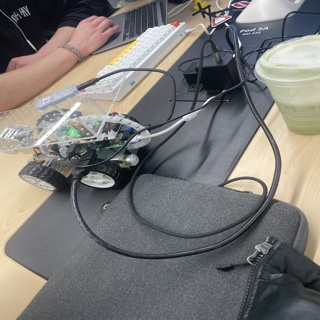vehicle: (0, 78, 156, 188)
